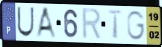6: (63, 8, 80, 40)
A: (34, 6, 58, 40)
G: (126, 10, 147, 42)
R: (81, 7, 103, 42)
T: (107, 9, 124, 40)
U: (16, 6, 35, 38)
